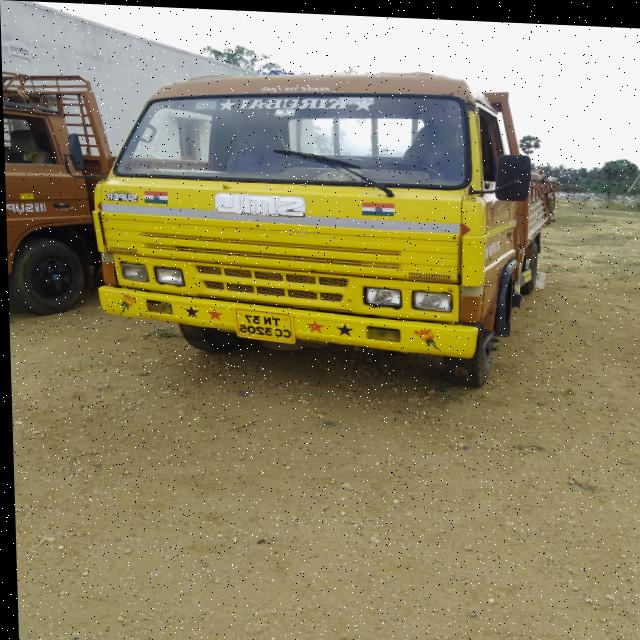plate: (227, 308, 297, 341)
